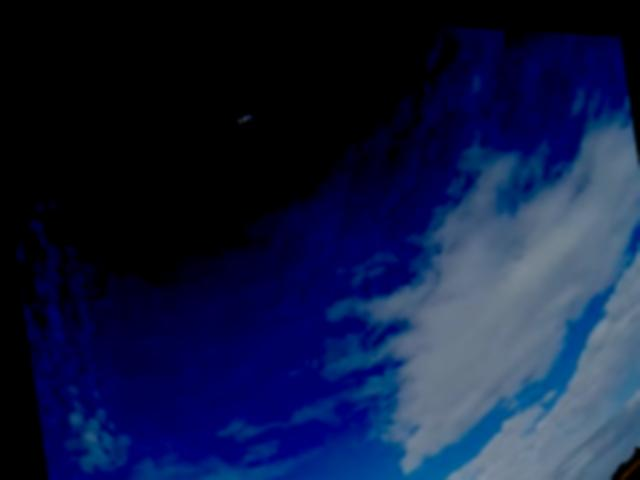uav: (227, 98, 261, 133)
